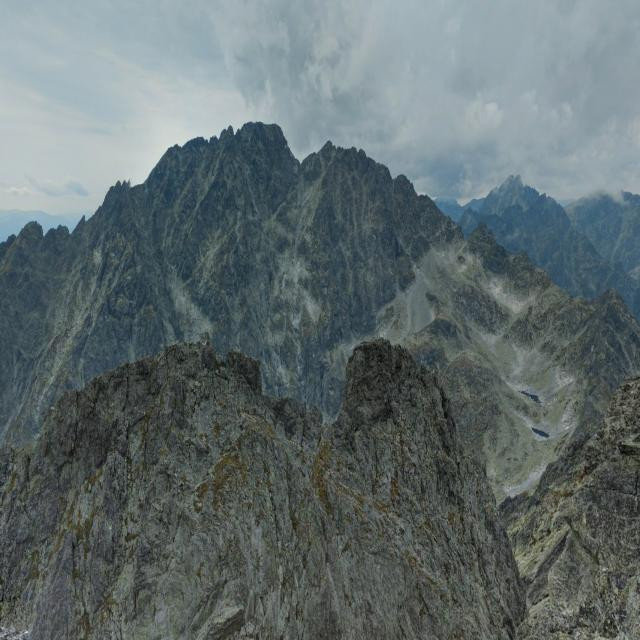Gerlachovsky Stit: (164, 43, 388, 209)
Vysoka: (482, 145, 545, 212)
